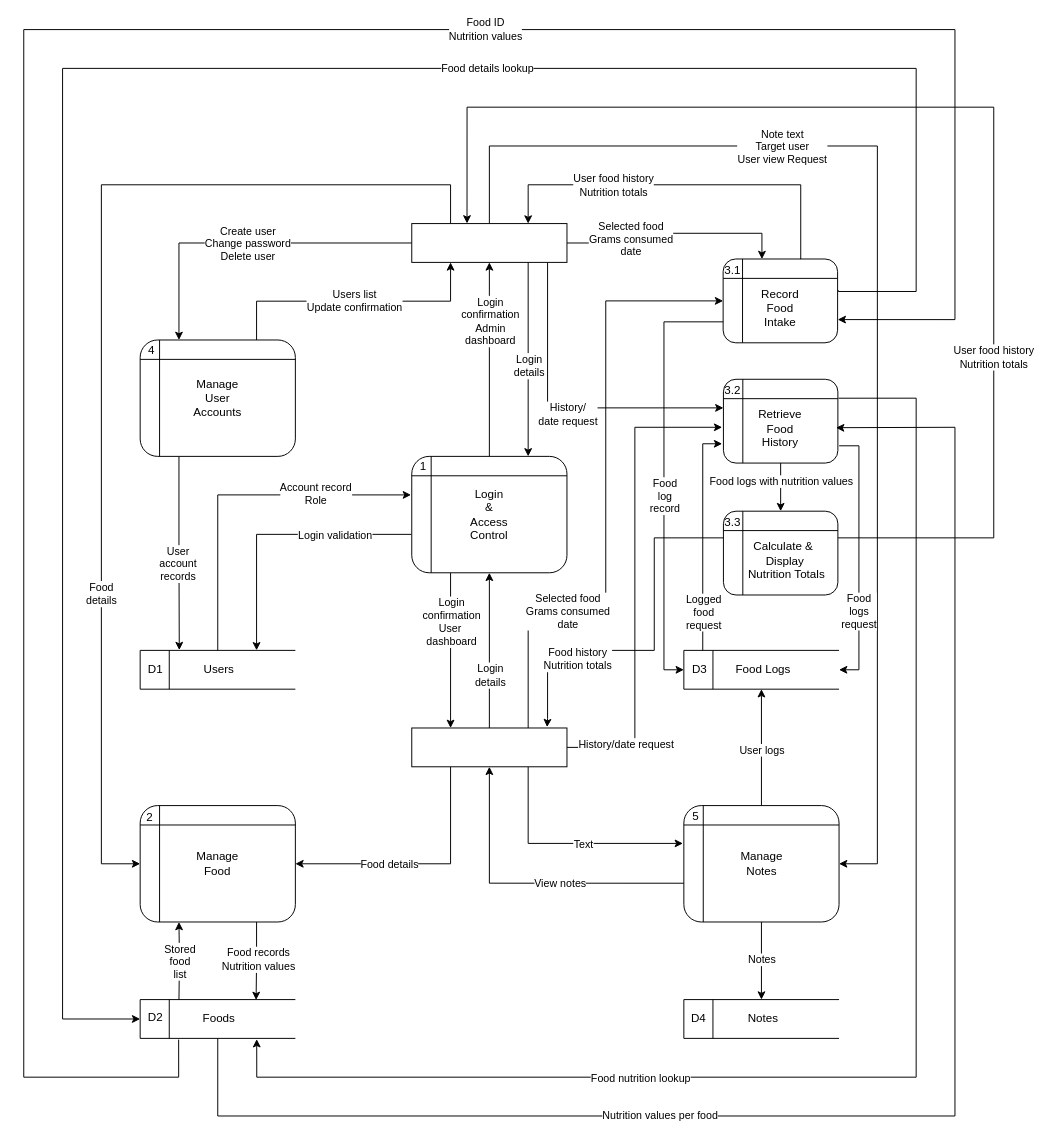
Image size: 1051x1141. Some labels were removed from this diagram. Here are the shapes that lost their labels. From the top down, the centre of each, then its label:
At (x=489, y=242): "Administrator".
At (x=489, y=747): "User".
